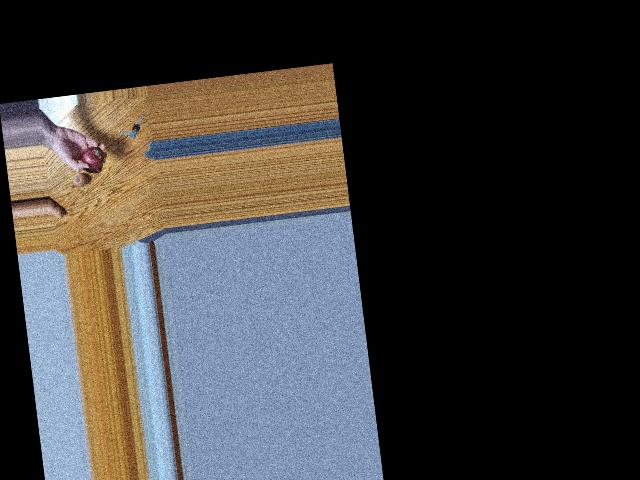onion: (70, 171, 87, 190)
